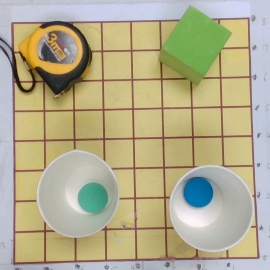cup_blue: (165, 164, 253, 252)
cup_green: (35, 147, 123, 240)
